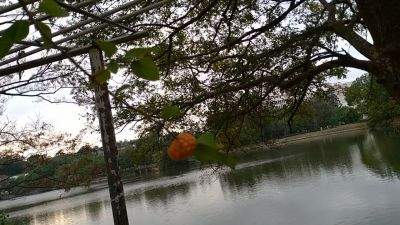eggs: (168, 130, 198, 163)
